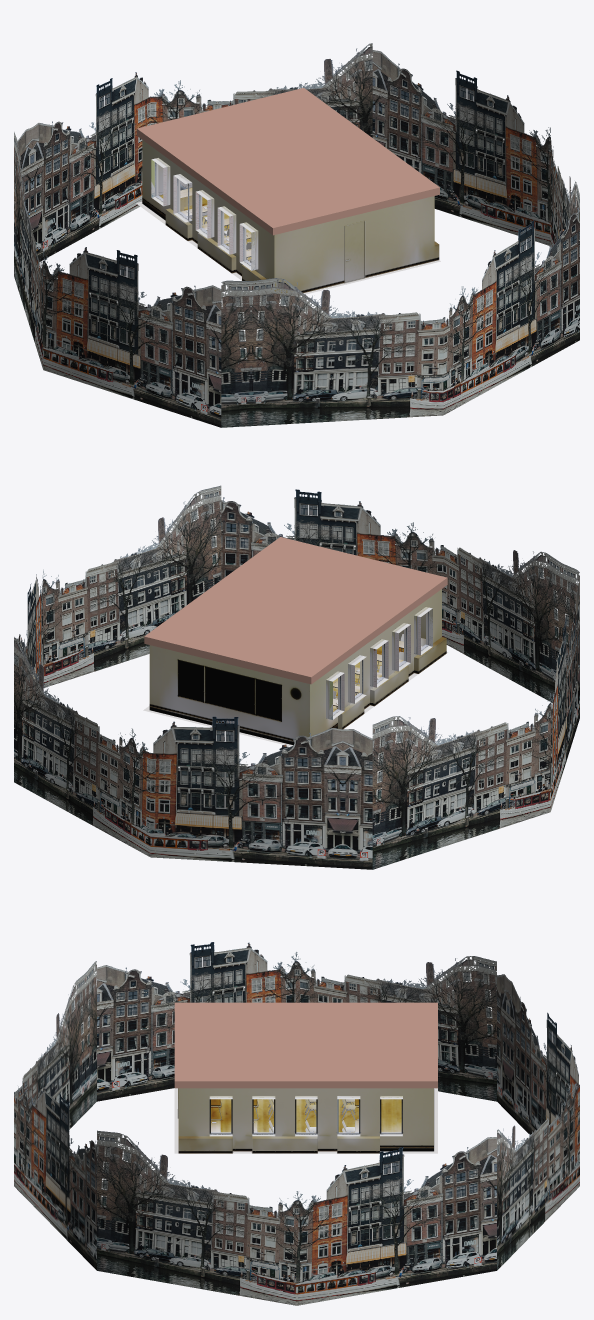
The model's file is VR Classroom.fbx.
The picture shows the model from 3 angles, top to bottom: view 1: azimuth 30°, elevation 25°; view 2: azimuth 150°, elevation 25°; view 3: azimuth 270°, elevation 25°; orthographic projection. The views are drawn at different scales.
Visible parts, largest first — view 1: environment, nobake, walls; view 2: environment, nobake, walls; view 3: environment, nobake, walls, desk.
Part boxes in pixels (x1=…): environment: x1=14, y1=43, x2=579, y2=427; nobake: x1=137, y1=88, x2=439, y2=235; walls: x1=136, y1=140, x2=440, y2=300; environment: x1=14, y1=485, x2=579, y2=869; nobake: x1=144, y1=537, x2=447, y2=684; walls: x1=143, y1=589, x2=448, y2=746; environment: x1=14, y1=942, x2=579, y2=1305; nobake: x1=174, y1=1002, x2=437, y2=1088; walls: x1=174, y1=1088, x2=437, y2=1153; desk: x1=211, y1=1099, x2=358, y2=1132.
Bounding box in the file's own units: 873 × 287 × 873.
Materials: 5 (4 with a texture image).
